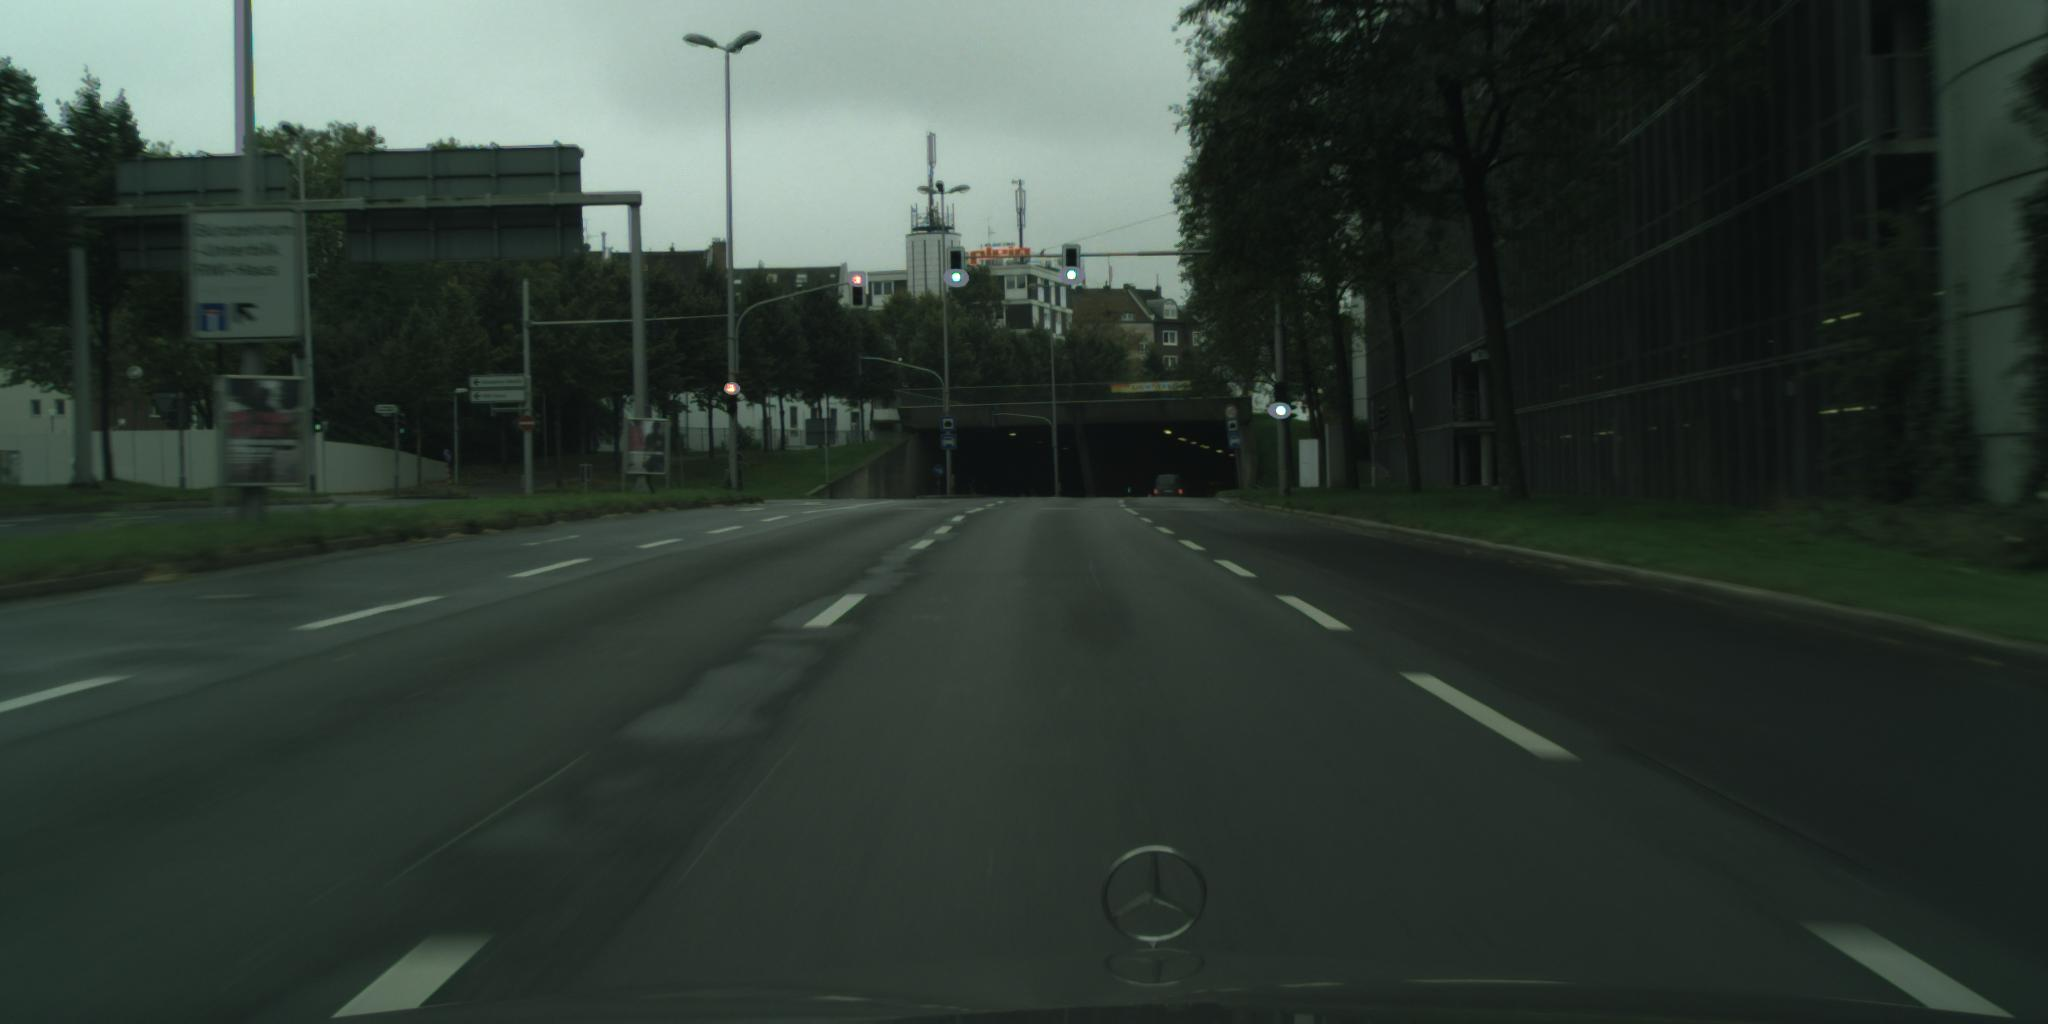car: (1155, 475, 1183, 499)
